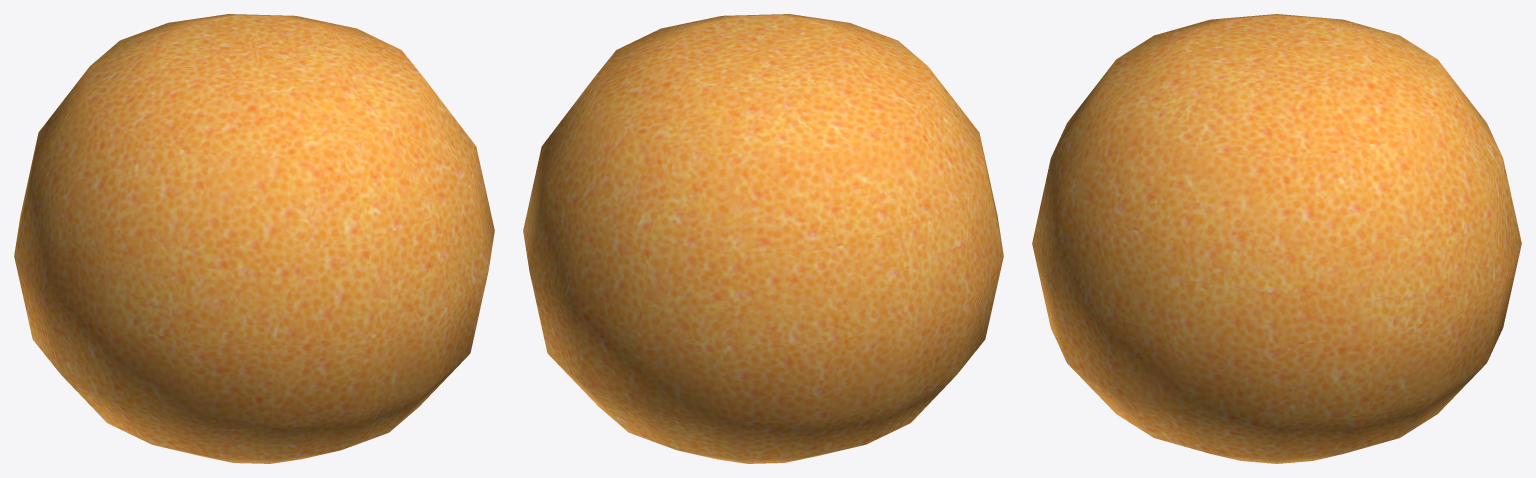
Rendered from Orange-whole.FBX.
The picture shows the model from 3 angles, left to right: view 1: azimuth 30°, elevation 25°; view 2: azimuth 150°, elevation 25°; view 3: azimuth 270°, elevation 25°; orthographic projection.
Parts seen in each view (by area): view 1: Sphere003; view 2: Sphere003; view 3: Sphere003.
Boxes of the visible parts, bbox=[...] form: Sphere003: bbox=[14, 14, 494, 463]; Sphere003: bbox=[523, 14, 1003, 463]; Sphere003: bbox=[1032, 14, 1521, 463].
Bounding box in the file's own units: 45.48 × 45.97 × 40.55.
